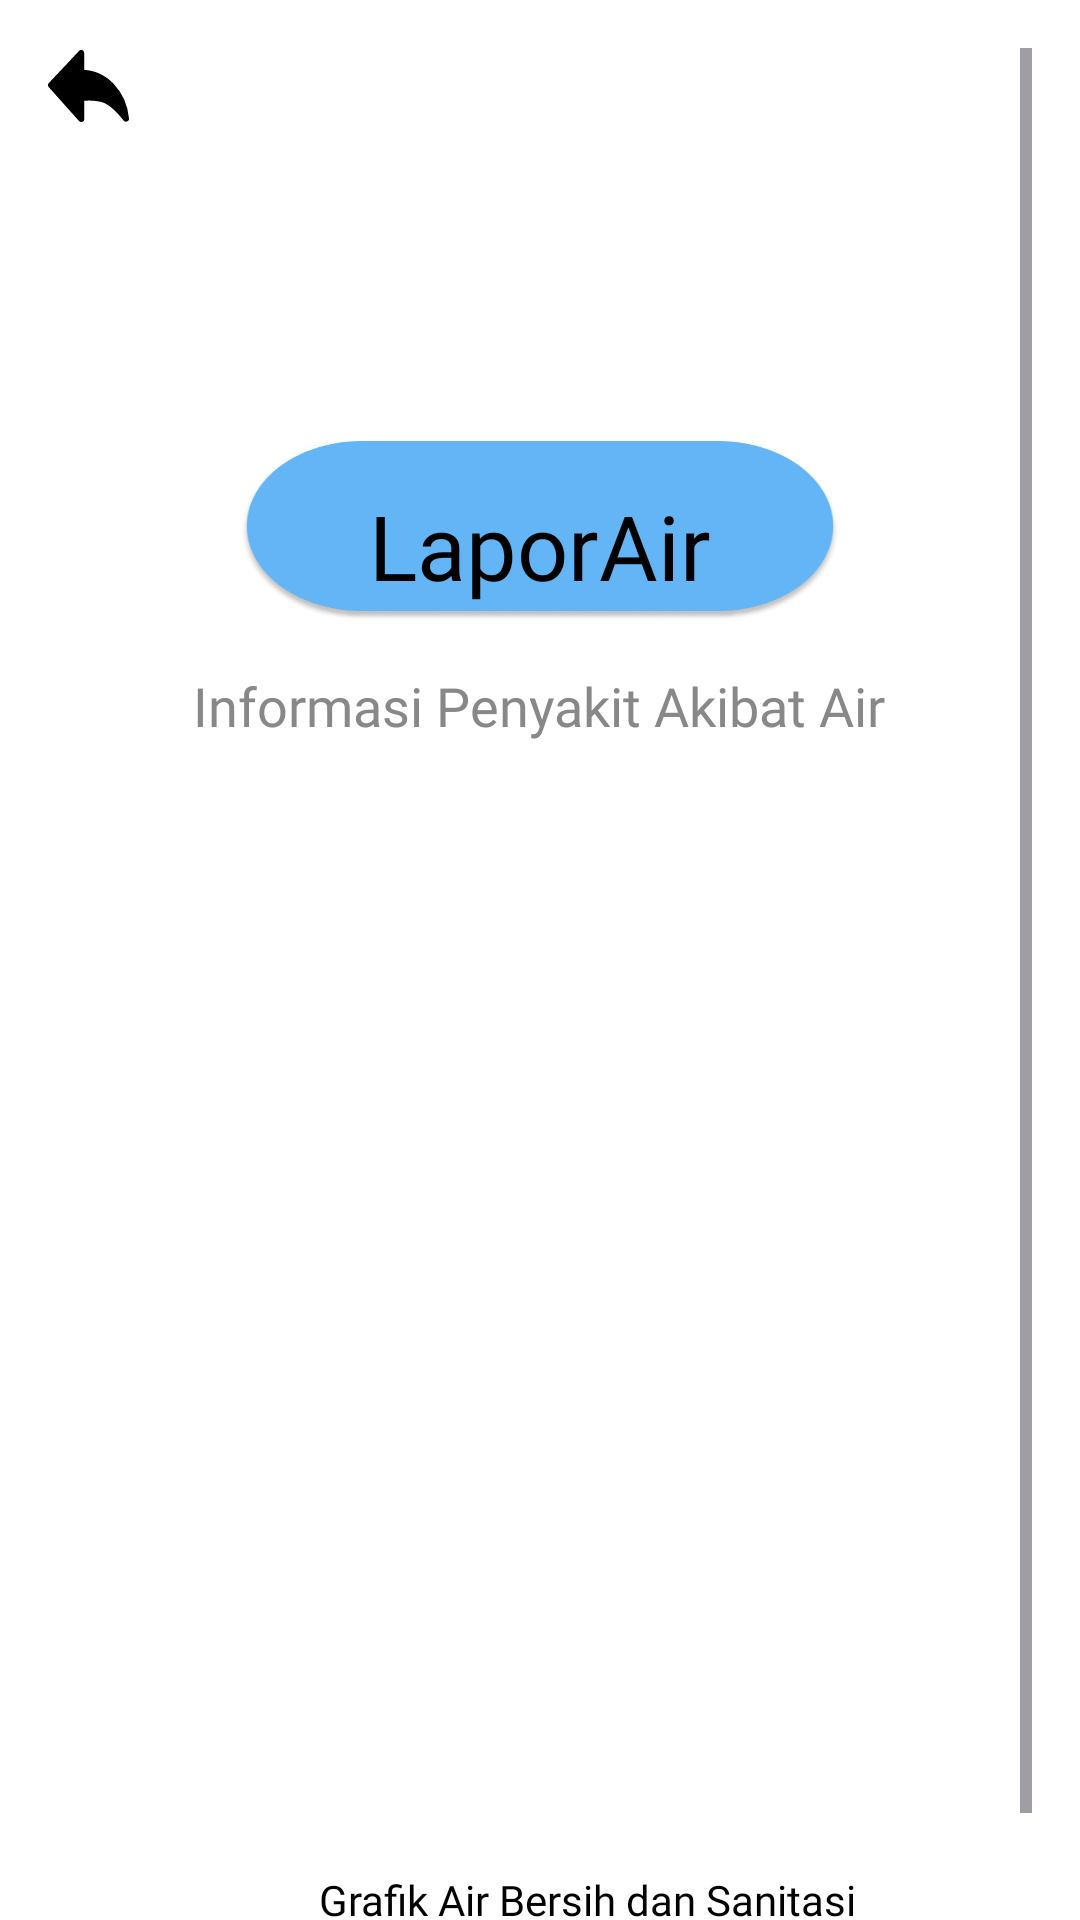

Where icons sit on this 1080px×1920px app screen, as BBox(x1, y1, x2, y2):
Back: BBox(48, 50, 129, 122)
